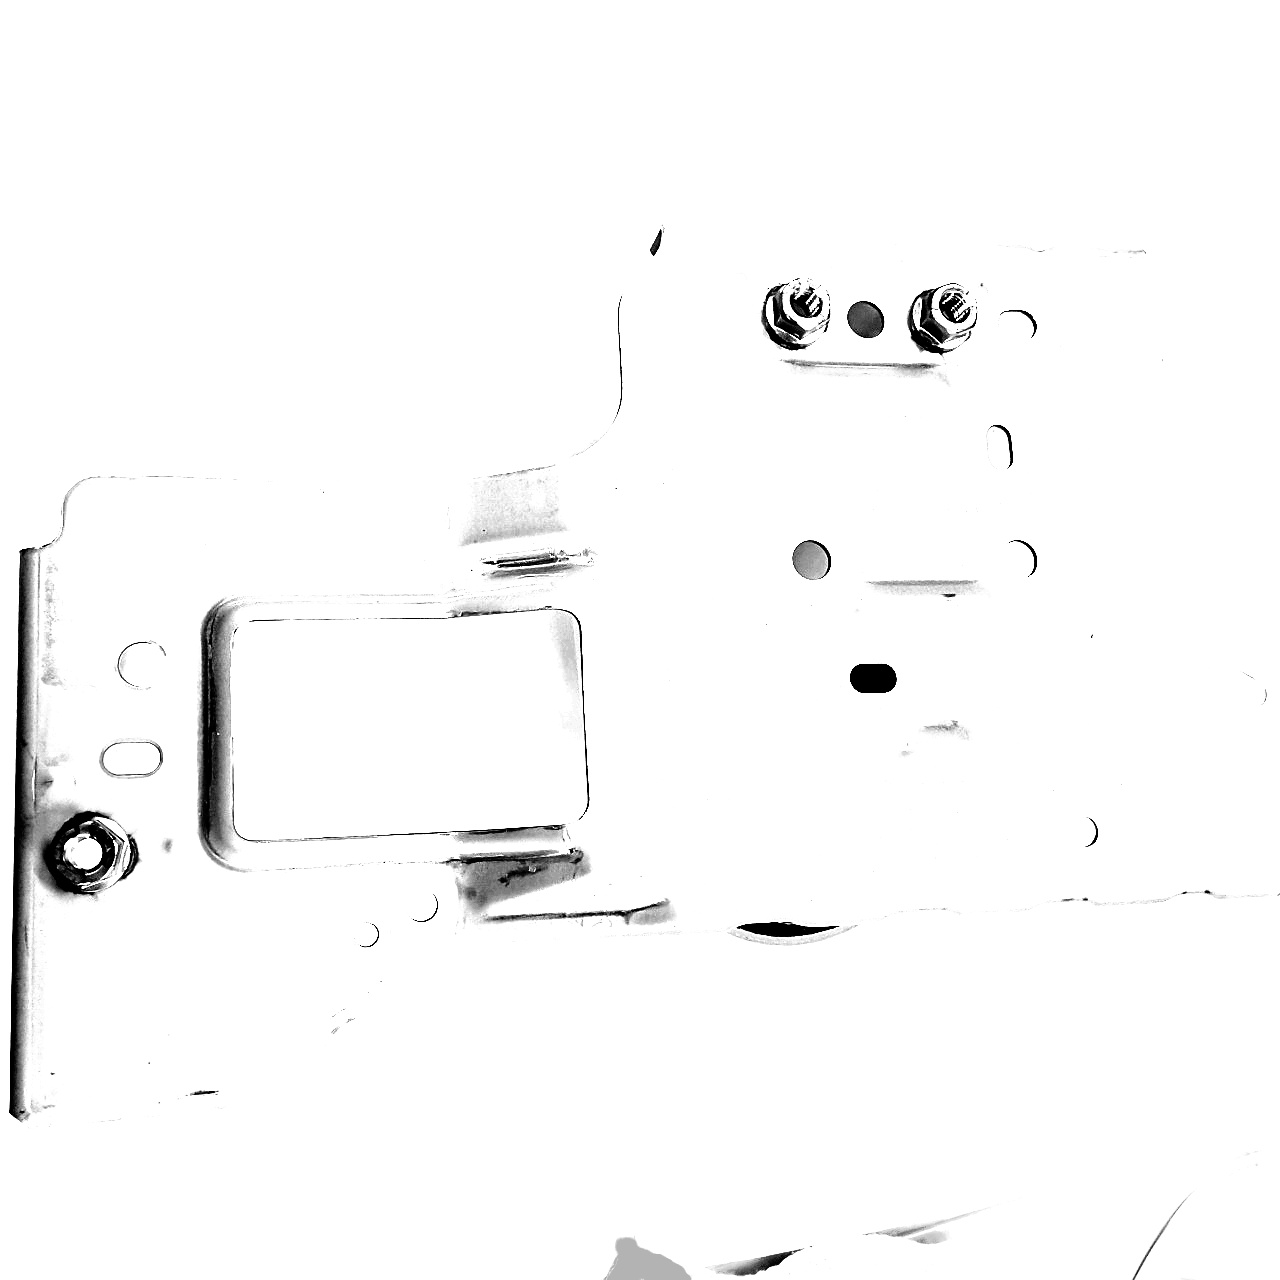dog: (45, 808, 139, 900), (753, 274, 836, 354), (904, 280, 982, 356)
